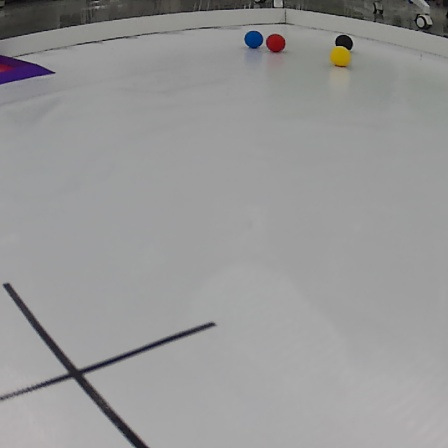black: (334, 34, 354, 50)
blue: (242, 30, 264, 51)
red: (266, 33, 288, 58)
red_aim: (0, 55, 59, 85)
yellow: (329, 44, 351, 70)
